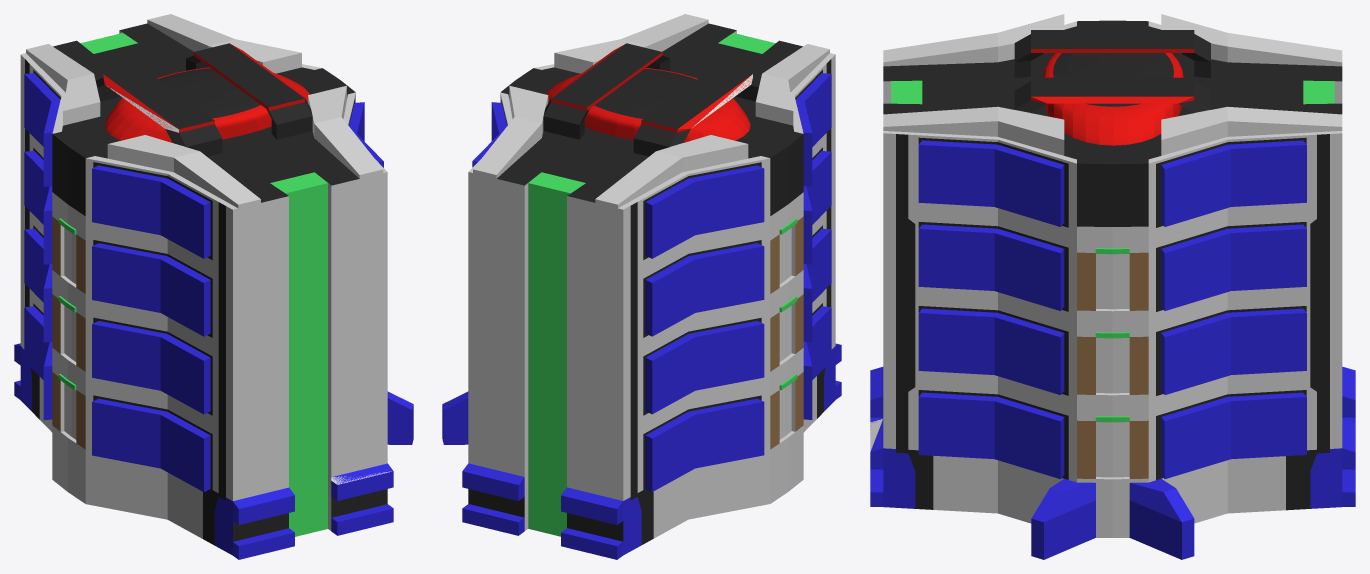
The model's file is FinishPoint.fbx.
The picture shows the model from 3 angles, left to right: view 1: azimuth 30°, elevation 25°; view 2: azimuth 150°, elevation 25°; view 3: azimuth 270°, elevation 25°; orthographic projection. The views are drawn at different scales.
Parts seen in each view (by area): view 1: Cube.001; view 2: Cube.001; view 3: Cube.001.
Part boxes in pixels (left/top/right/bottom): Cube.001: left=14, top=14, right=413, bottom=559; Cube.001: left=442, top=14, right=841, bottom=559; Cube.001: left=870, top=14, right=1355, bottom=559.
Bounding box in the file's own units: 517 × 583 × 636.
